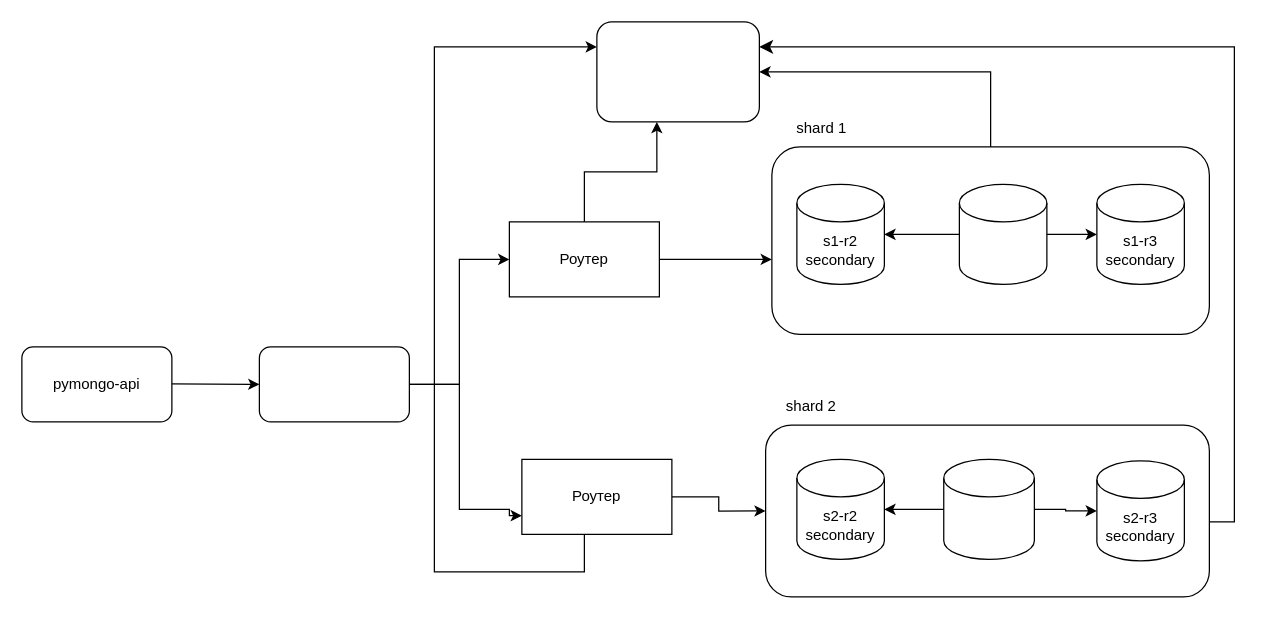
Some shapes in this 1269 by 619 pixel diagram are drawn without their labels. The centre of each missing label's shape, as x and y in pixels:
s1-r1 primary: pixel 1002 233
s2-r1 primary: pixel 988 508
Драйвер: pixel 333 384
Конфигурационный сервер: pixel 677 71
